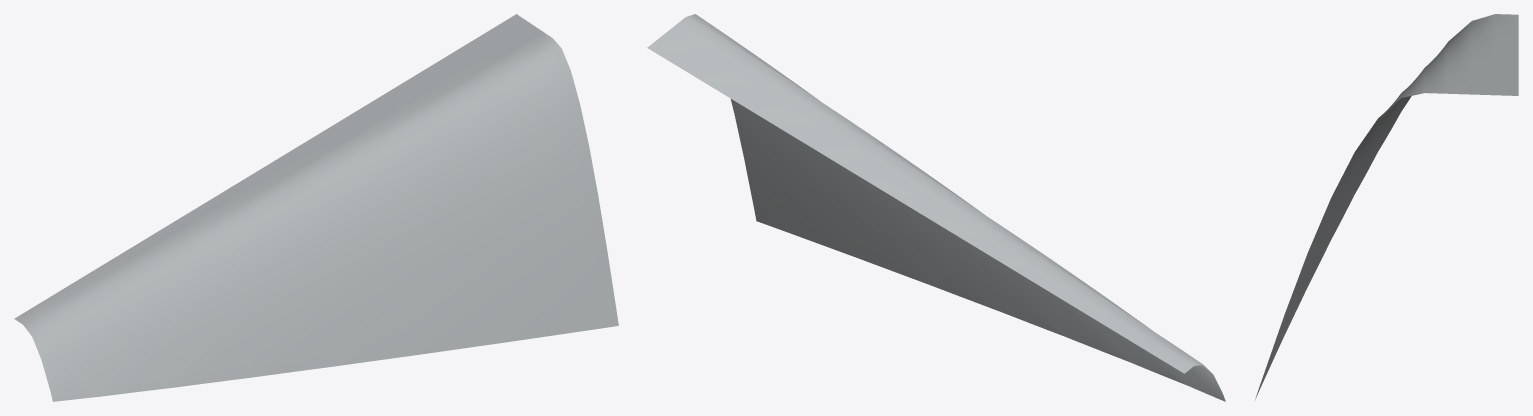
File: alpine-11-12.glb
3 views of the same model, side by side, from view 1: azimuth 30°, elevation 25°; view 2: azimuth 150°, elevation 25°; view 3: azimuth 270°, elevation 25° (orthographic). The views are drawn at different scales.
Visible parts, largest first — view 1: alpine-11-12; view 2: alpine-11-12; view 3: alpine-11-12.
Boxes of the visible parts, x1,y1,x2,y2 form: alpine-11-12: (14,14,618,401); alpine-11-12: (647,14,1225,401); alpine-11-12: (1255,14,1518,399).
Size of the model in its own units: 256 by 116 by 90.28.
1 material, 1 textured.
